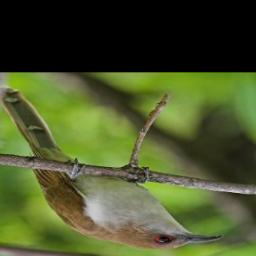Cuckoo: (0, 87, 224, 250)
